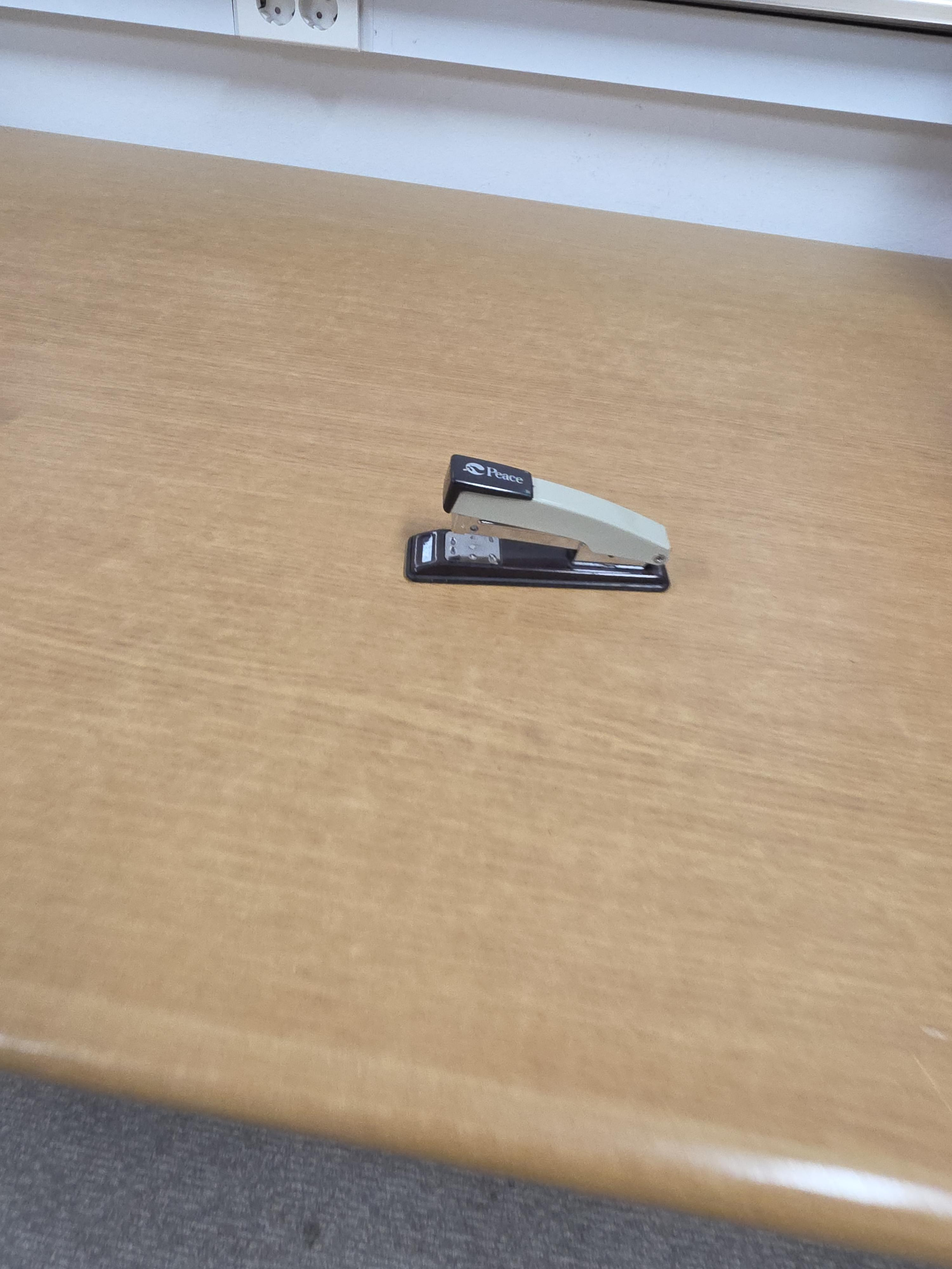stapler: (403, 454, 672, 594)
